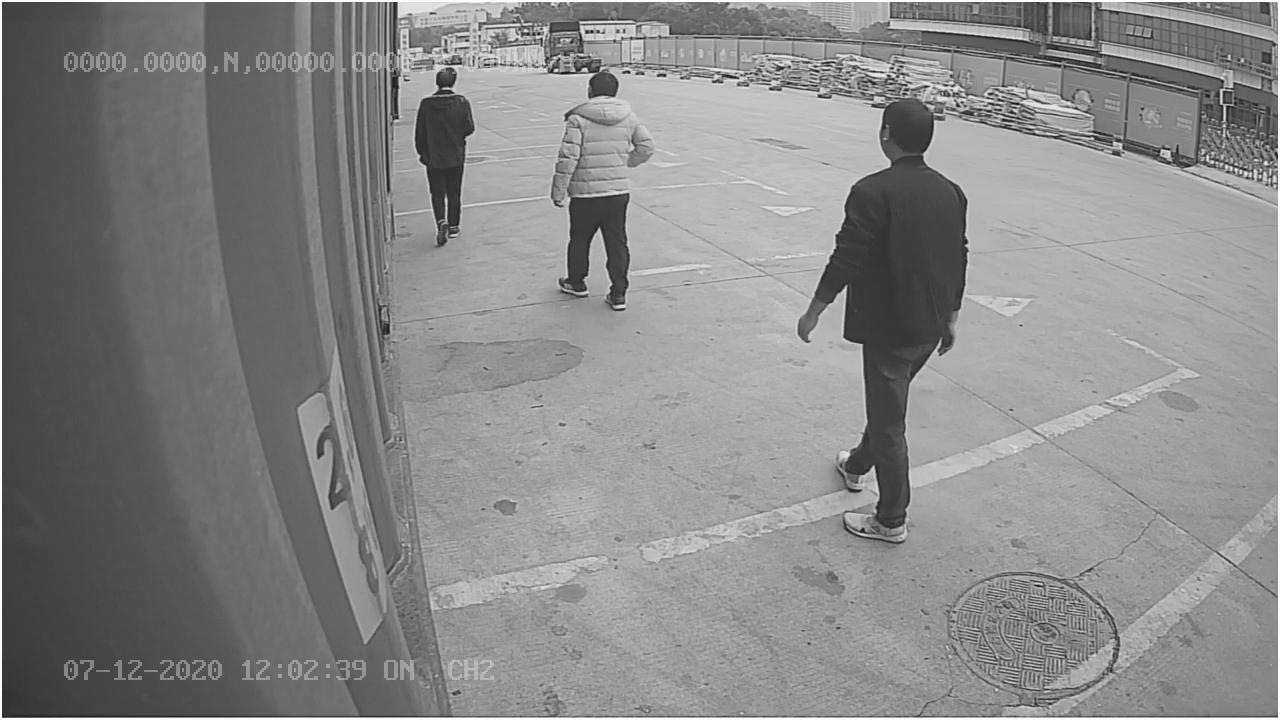person: (796, 90, 974, 545), (552, 65, 656, 313)
